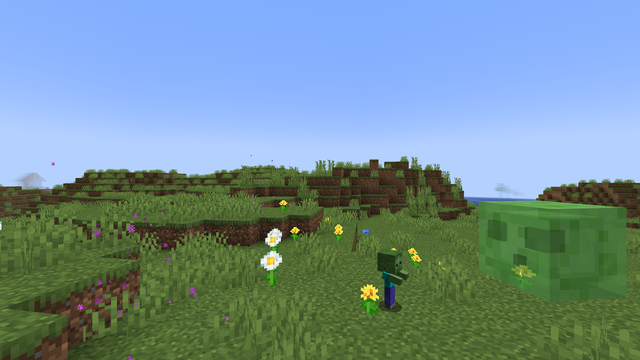slimes: (480, 197, 632, 303)
zombies: (381, 256, 397, 309)
